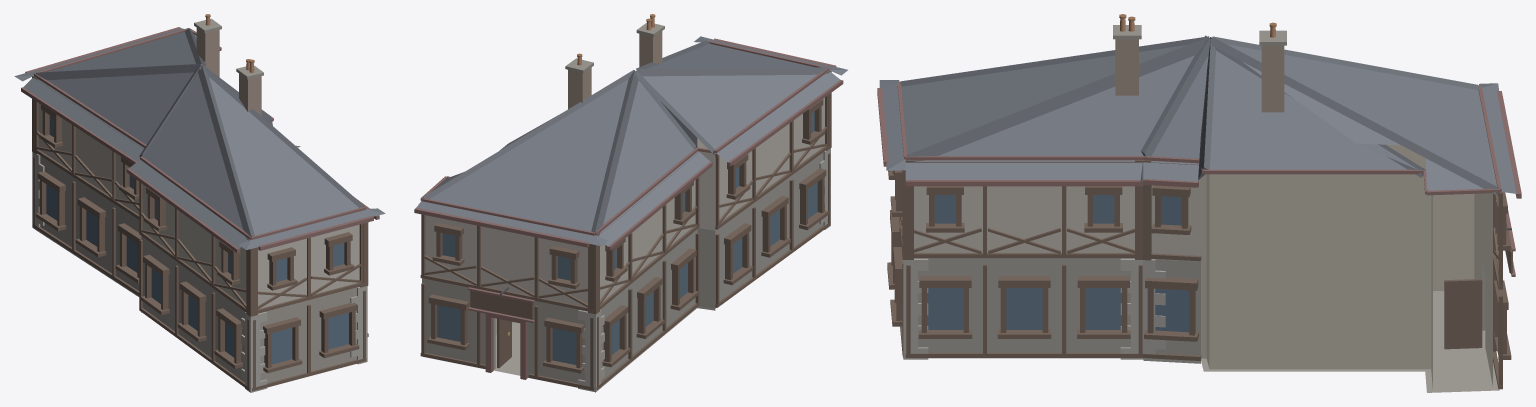
The picture shows the model from 3 angles, left to right: view 1: azimuth 30°, elevation 25°; view 2: azimuth 150°, elevation 25°; view 3: azimuth 270°, elevation 25°; orthographic projection. The views are drawn at different scales.
Parts seen in each view (by area): view 1: B007_visible; view 2: B007_visible; view 3: B007_visible.
Part boxes in pixels (x1,y1,x2,y2): B007_visible: (14,14,385,392); B007_visible: (414,14,847,392); B007_visible: (877,14,1521,392).
Size of the model in its own units: 8.2 by 10.47 by 18.75.
